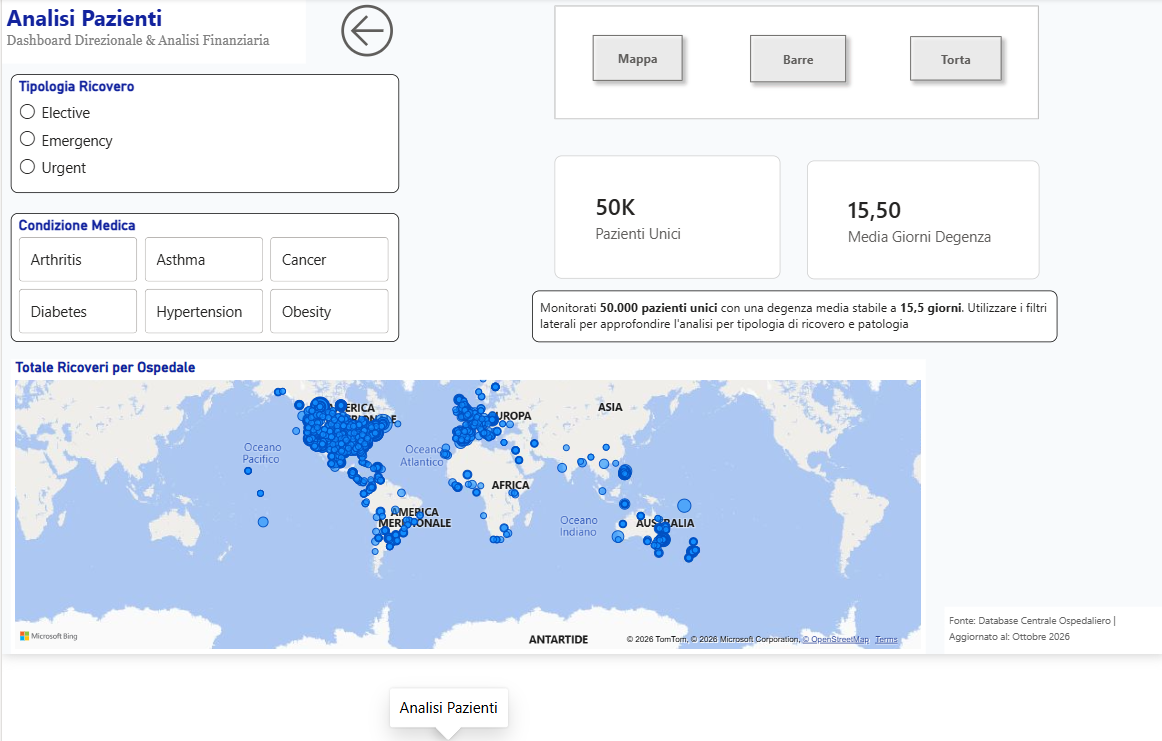

The page's visual inventory and layout, read from the dashboard file:
{"tool":"powerbi","page":{"name":"Analisi Pazienti","canvas":[1280,720],"ordinal":1},"visuals":[{"type":"listSlicer","title":"Tipologia Ricovero","fields":{"Values":["FactHospitalVisits_pulita.Admission_Type"]},"box":[10,83.3,426.7,130],"z":0},{"type":"advancedSlicerVisual","title":"Condizione Medica","fields":{"Values":["FactHospitalVisits_pulita.Medical_Condition"]},"box":[10,236.7,426.7,141.7],"z":1000},{"type":"map","title":"Totale Ricoveri per Ospedale","fields":{"Category":["DimHospitals_pulita.Hospital"],"Size":["Misure.Totale Ricoveri"]},"box":[10,396.2,1003.8,323.8],"z":4000},{"type":"shape","box":[606.7,8.3,531.7,125],"z":5000},{"type":"actionButton","box":[811.7,31.7,123.3,70],"z":6000},{"type":"textbox","box":[0,0,333.3,71.7],"z":7000},{"type":"textbox","box":[1035,668.3,245,51.7],"z":8000},{"type":"cardVisual","fields":{"Data":["Misure.Pazienti Unici"]},"box":[606.7,173.3,248.3,135],"z":9000},{"type":"cardVisual","fields":{"Data":["Misure.Media Giorni Degenza"]},"box":[883.3,178.3,255,130],"z":10000},{"type":"actionButton","box":[988.3,33.3,118.3,66.7],"z":11000},{"type":"actionButton","box":[640,31.7,116.7,68.3],"z":12000},{"type":"textbox","box":[581.7,321.7,576.7,56.7],"z":13000},{"type":"actionButton","box":[365,0,100,71.7],"z":14000}]}

Visuals, with their boxes on the page's 1280x720 design canvas (x1, y1, x2, y2). These are canvas units, not pixel positions in the 1162x741 screenshot, which may show the page scaled, cropped or inside an application window:
"Tipologia Ricovero" listSlicer: rect(10, 83, 437, 213)
"Condizione Medica" advancedSlicerVisual: rect(10, 237, 437, 378)
"Totale Ricoveri per Ospedale" map: rect(10, 396, 1014, 720)
shape: rect(607, 8, 1138, 133)
actionButton: rect(812, 32, 935, 102)
textbox: rect(0, 0, 333, 72)
textbox: rect(1035, 668, 1280, 720)
cardVisual - Misure.Pazienti Unici: rect(607, 173, 855, 308)
cardVisual - Misure.Media Giorni Degenza: rect(883, 178, 1138, 308)
actionButton: rect(988, 33, 1107, 100)
actionButton: rect(640, 32, 757, 100)
textbox: rect(582, 322, 1158, 378)
actionButton: rect(365, 0, 465, 72)
